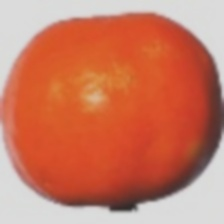tangerine: (10, 13, 208, 174)
